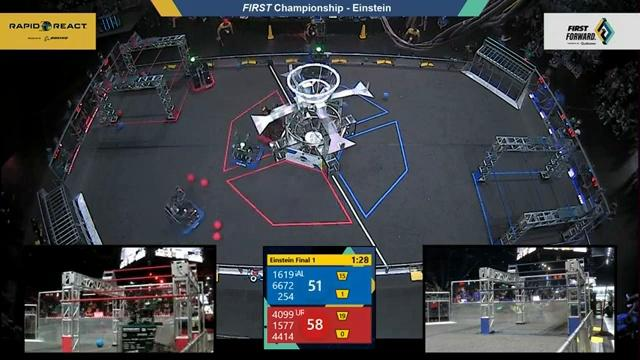robot: (162, 186, 206, 239), (226, 133, 265, 171), (255, 103, 285, 144), (187, 54, 215, 95), (301, 47, 333, 82)
